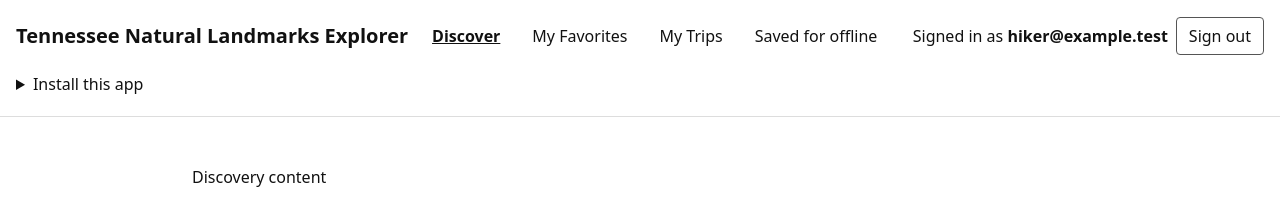
it: AppLayout — My Favorites navigation › signed in: Discover then My Favorites, linking to /favorites
Click the link "My Favorites" at (580,36), box [532,25,628,47]
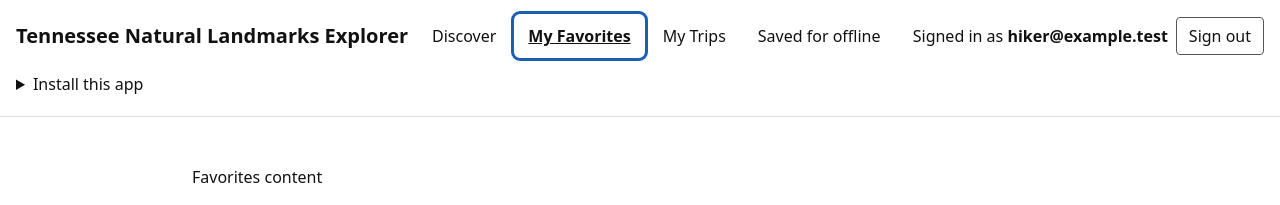
Expected: the text "Favorites content" is shown, [192,166,322,188]
